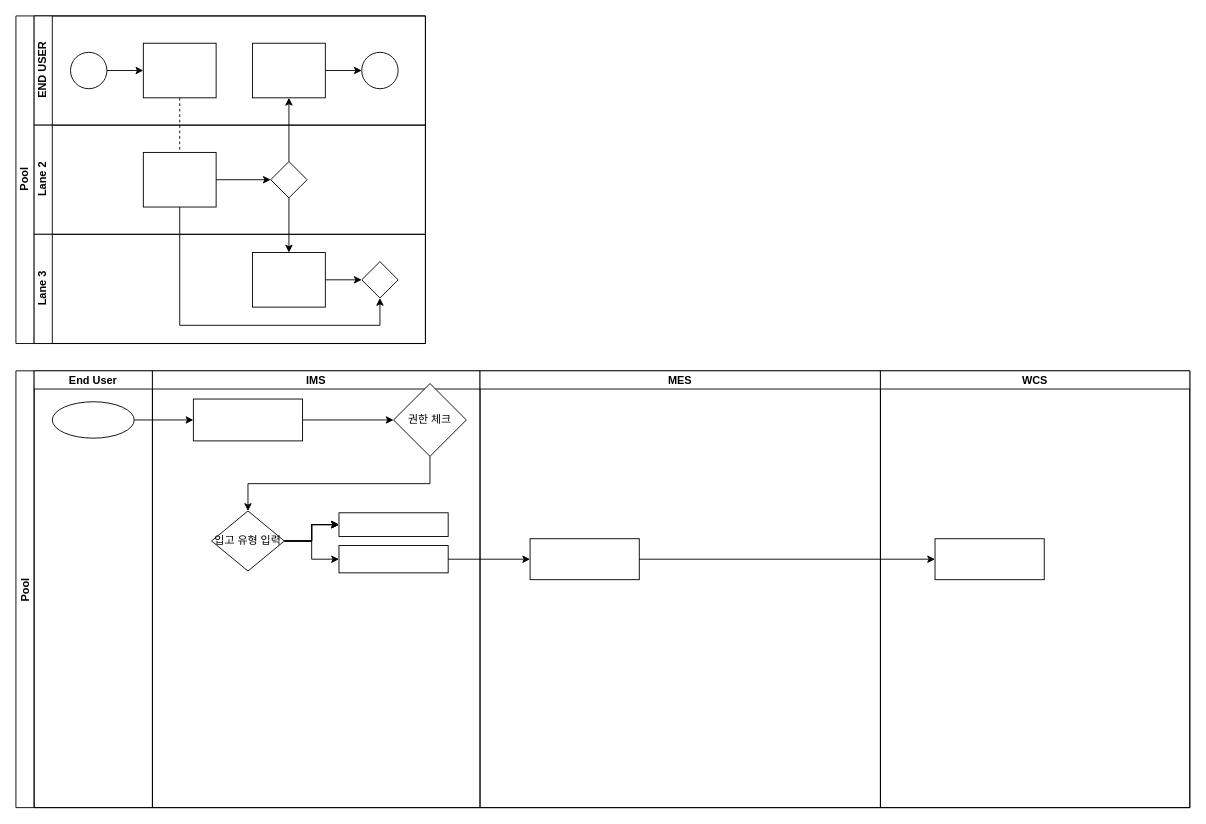
The diagram is 1206 pixels wide and 824 high, and some of its shapes have lost their labels. The shapes that lost their labels are listed below. From the top down, each one's centre as x and y in pixels, then its label:
(92,419): 입고 지시 생성
(247,419): 수동 입고 작업 생성
(393,524): 완전 수동 입고
(393,559): 일반 수동 입고
(584,559): 입고 지시 생성 보고
(989,559): 입고 작업 수행
